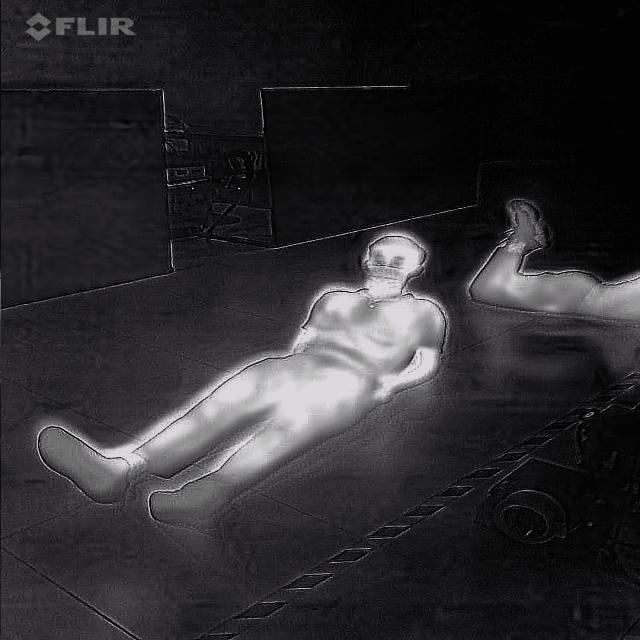Victim: (27, 225, 460, 531), (459, 192, 639, 326)
